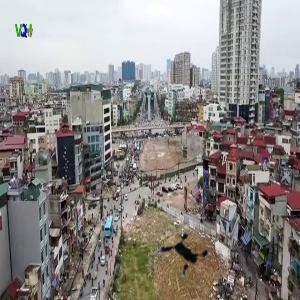drone: (149, 224, 220, 295)
